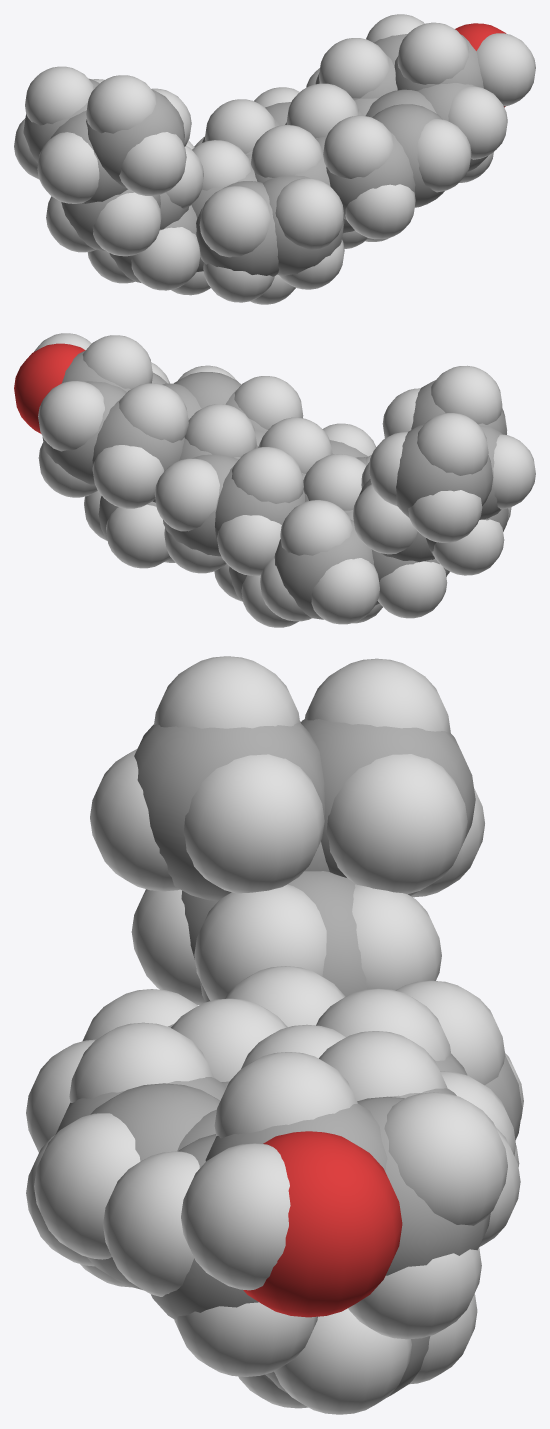
The model's file is cholesterol-cpk.glb.
3 renders of one model, top to bottom at view 1: azimuth 30°, elevation 25°; view 2: azimuth 150°, elevation 25°; view 3: azimuth 270°, elevation 25°, orthographic. The views are drawn at different scales.
Visible parts, largest first — view 1: cholesterol-cpk; view 2: cholesterol-cpk; view 3: cholesterol-cpk.
Boxes of the visible parts, x1,y1,x2,y2 form: cholesterol-cpk: (14,14,535,304); cholesterol-cpk: (14,333,535,627); cholesterol-cpk: (26,656,523,1414).
Bounding box in the file's own units: 18.28 × 9.48 × 8.08.
